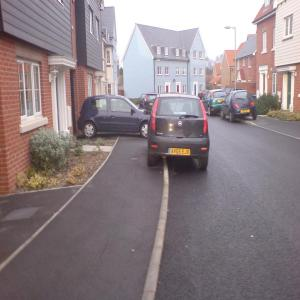Vehicle-registration-plate: (170, 149, 190, 156), (242, 110, 251, 113), (219, 100, 226, 102)
